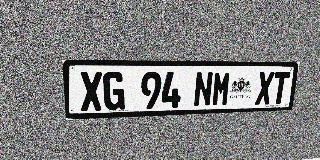4: (161, 72, 182, 108)
9: (141, 72, 162, 109)
G: (103, 72, 125, 110)
M: (211, 72, 232, 106)
N: (193, 72, 214, 107)
T: (271, 72, 291, 104)
X: (79, 72, 103, 111), (255, 72, 275, 105)
